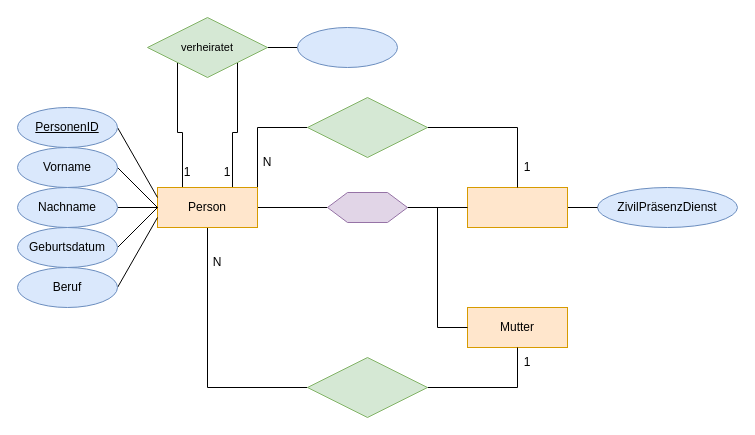
The diagram is 755 pixels wide and 435 high, and some of its shapes have lost their labels. The box of each missing label's shape, as (x1, y1, x2, y2) in pixels:
Datum: (296, 26, 398, 68)
is a: (326, 192, 408, 222)
istMutterVon: (306, 356, 428, 418)
istVaterVon: (306, 96, 428, 158)
Vater: (466, 186, 568, 228)
